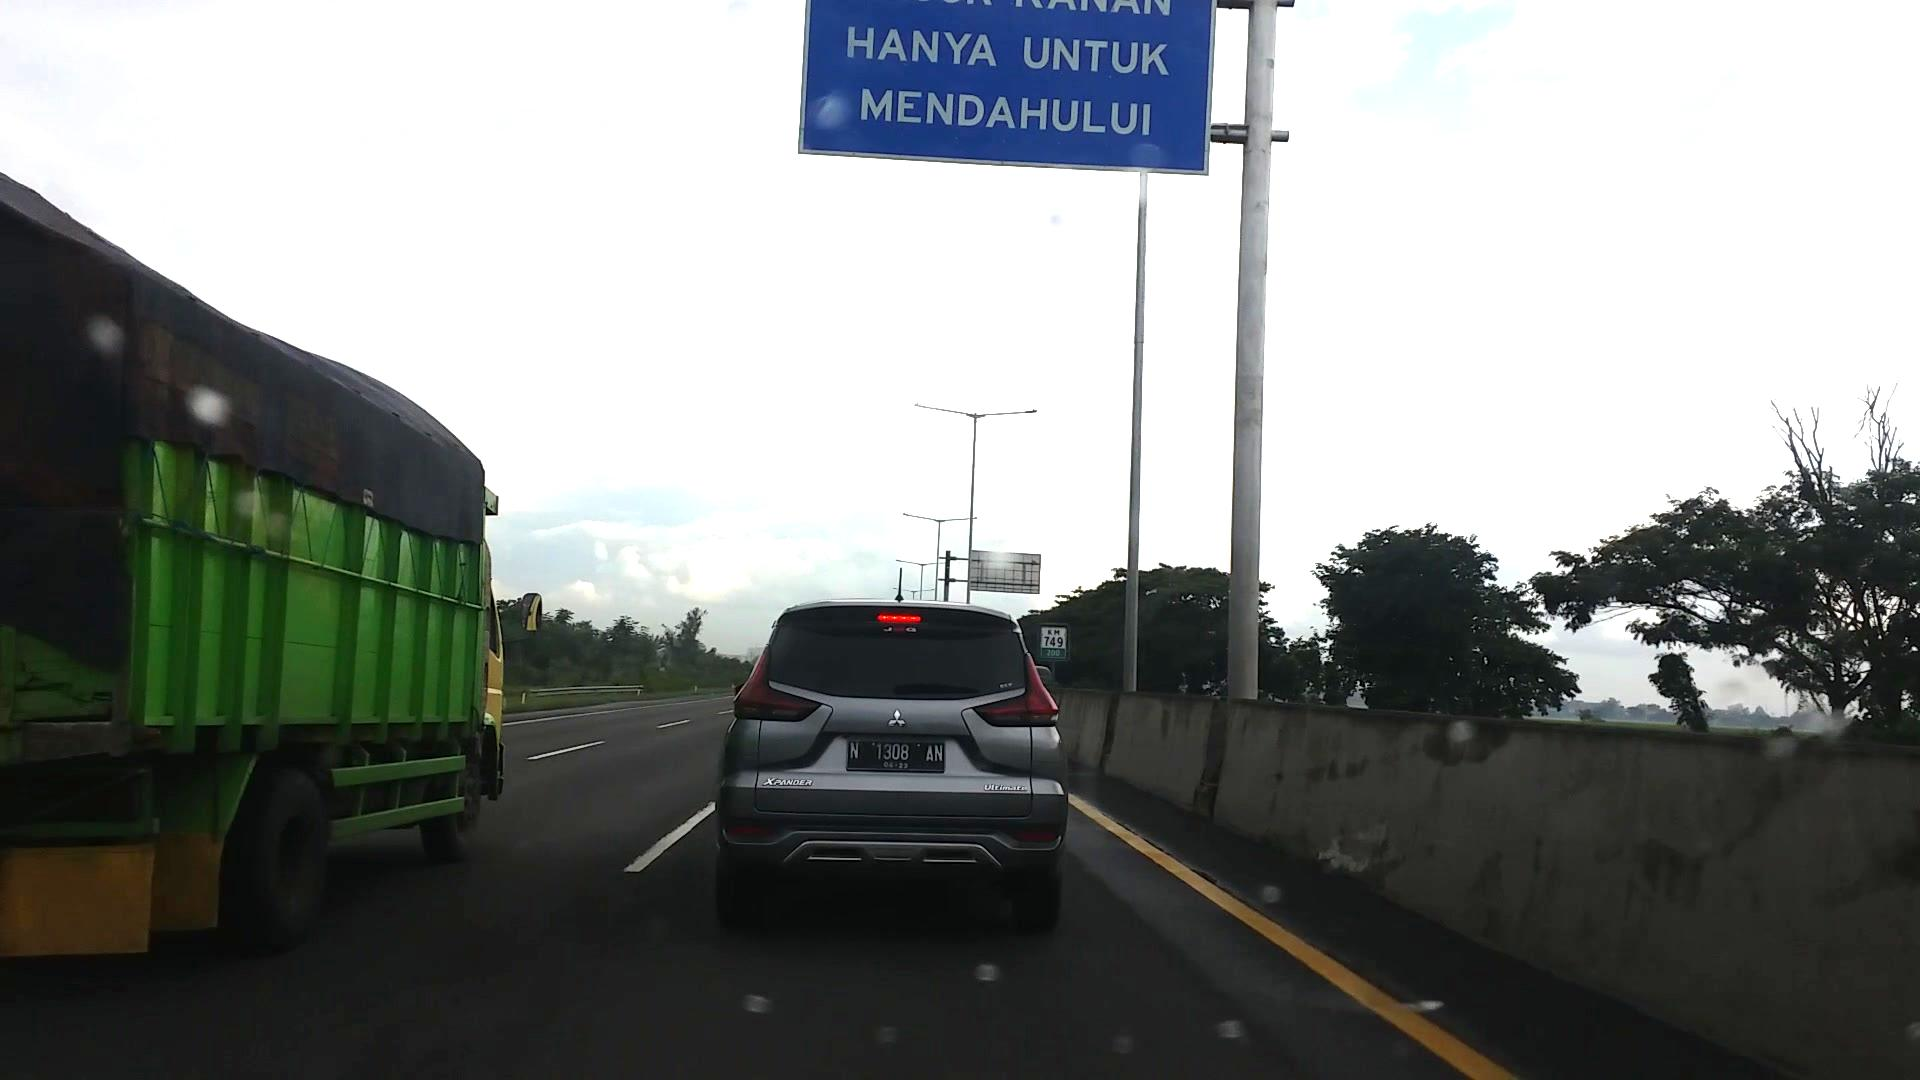plate_positive: (847, 738, 945, 774)
